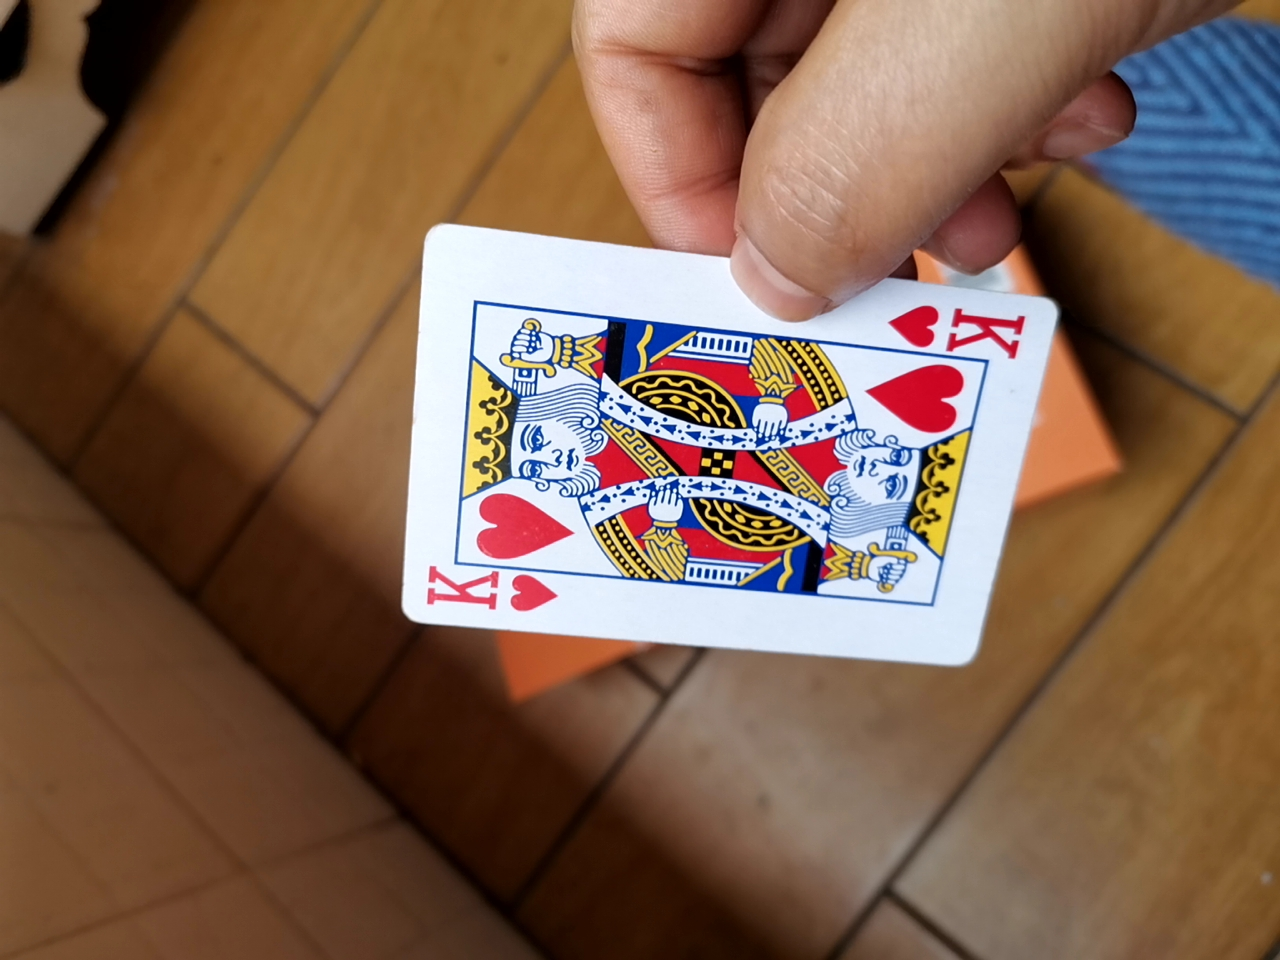hx k: (379, 237, 1065, 673)
